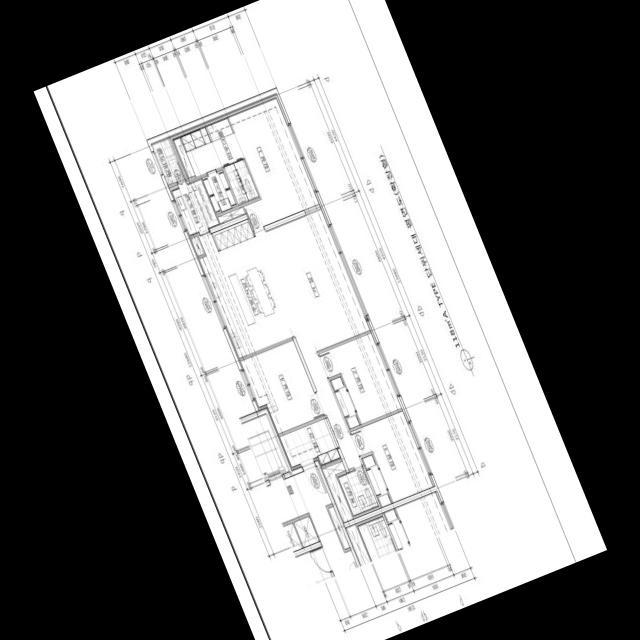background: (33, 0, 607, 640)
space_bedroom: (228, 97, 320, 229), (318, 331, 403, 428), (350, 410, 434, 506), (239, 339, 323, 433)
space_dressroom: (202, 169, 236, 213)
space_elevator: (241, 413, 289, 480)
space_elevator_hall: (266, 465, 357, 575)
space_front: (279, 417, 340, 466)
space_kitchen: (197, 218, 294, 358)
space_living_room: (254, 208, 371, 468)
space_other: (172, 117, 243, 179), (170, 179, 218, 234), (322, 460, 352, 521), (328, 505, 349, 548), (293, 515, 319, 546), (283, 522, 302, 550), (217, 206, 245, 223), (191, 235, 204, 255)
space_outdoor_room: (151, 136, 184, 184)
space_toilet: (337, 466, 378, 515), (222, 158, 259, 204)
